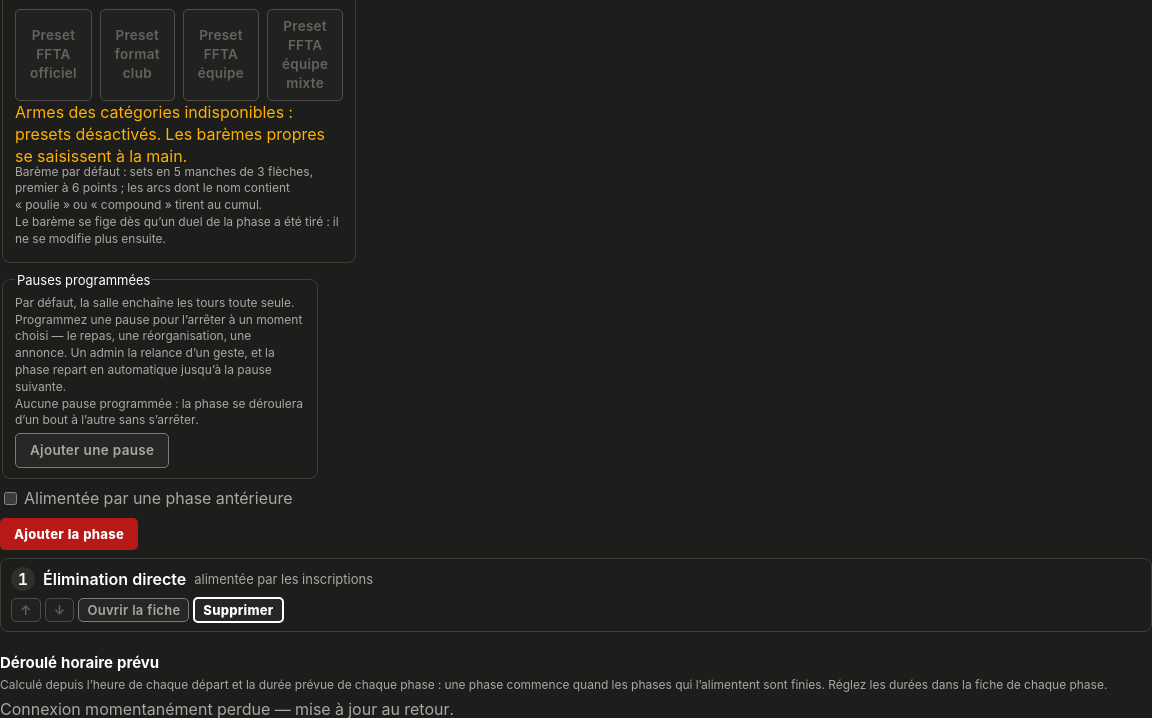
Test: la fiche d’une phase › porte le titre et les réglages du type une fois ouverte
(page scrolled)
Click the button "Ouvrir la fiche". click: {"x": 134, "y": 610}
box: [78,598,189,622]
(page scrolled)
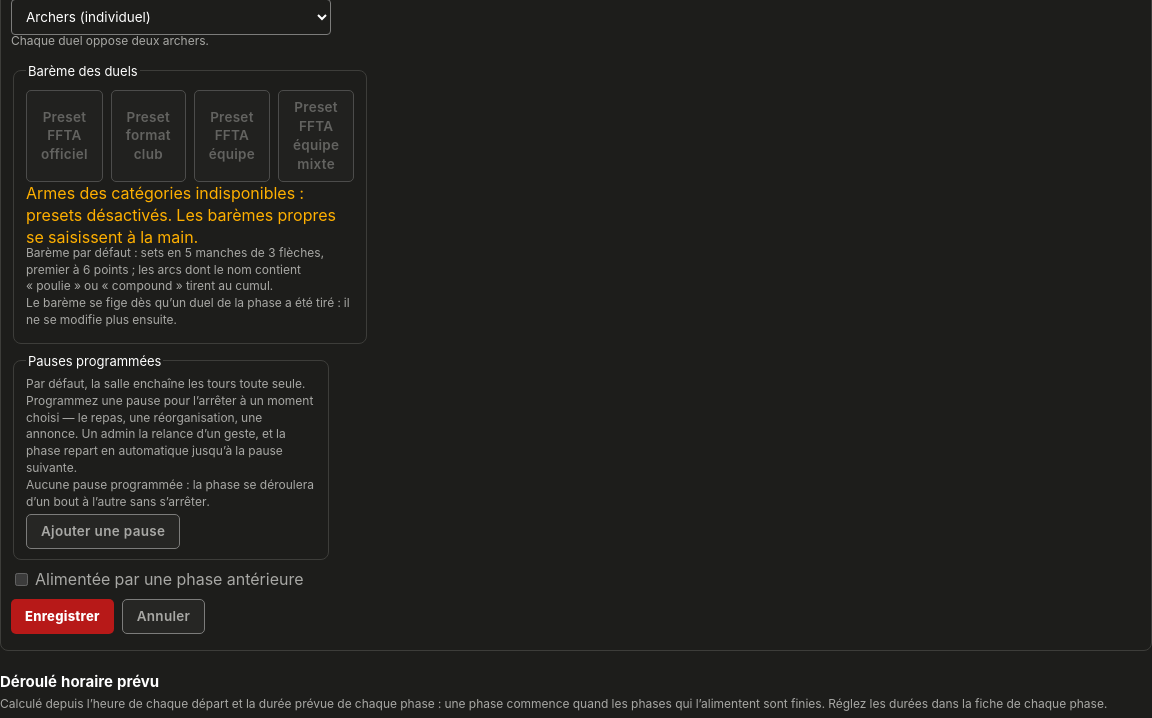
Check: the text "Pauses programmées" is shown, box [26,352,164,370]
